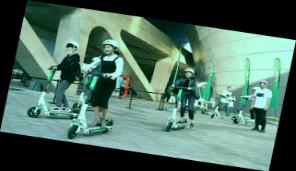helmet: (64, 33, 131, 144), (26, 37, 98, 125), (159, 63, 208, 135)
